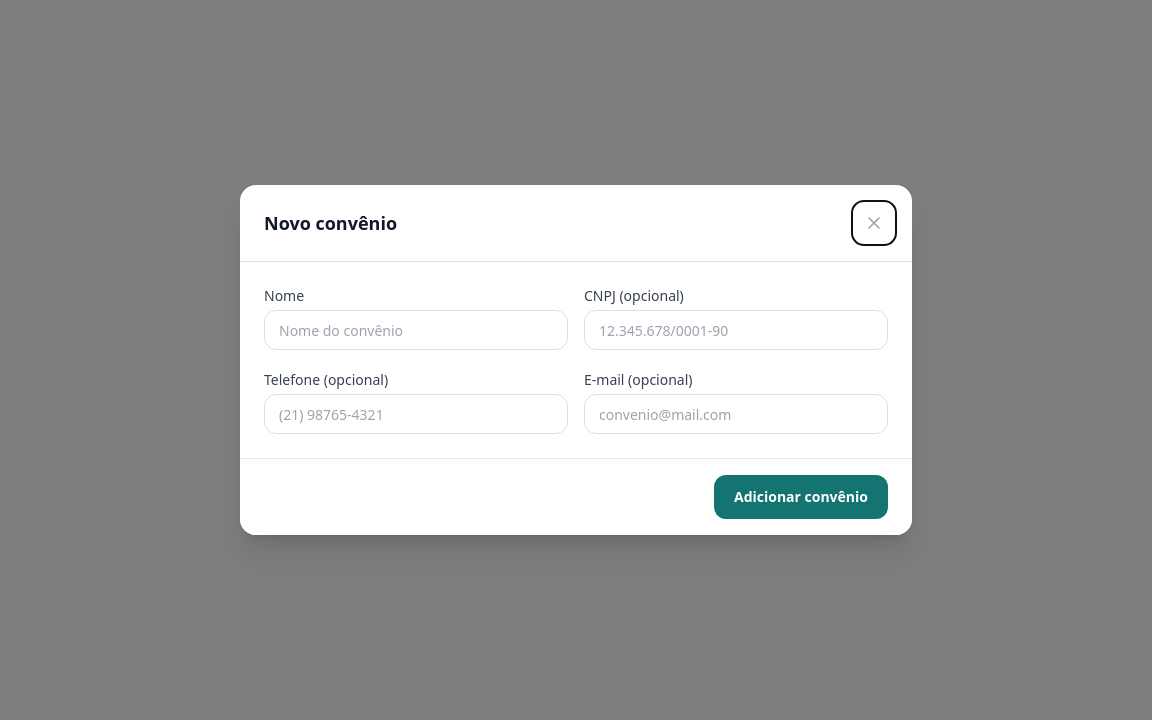
Scenario: modal de cadastro — convênio › não envia sem nome e mostra o erro do schema
Click the button "Adicionar convênio": (801,497) [714,475,888,519]
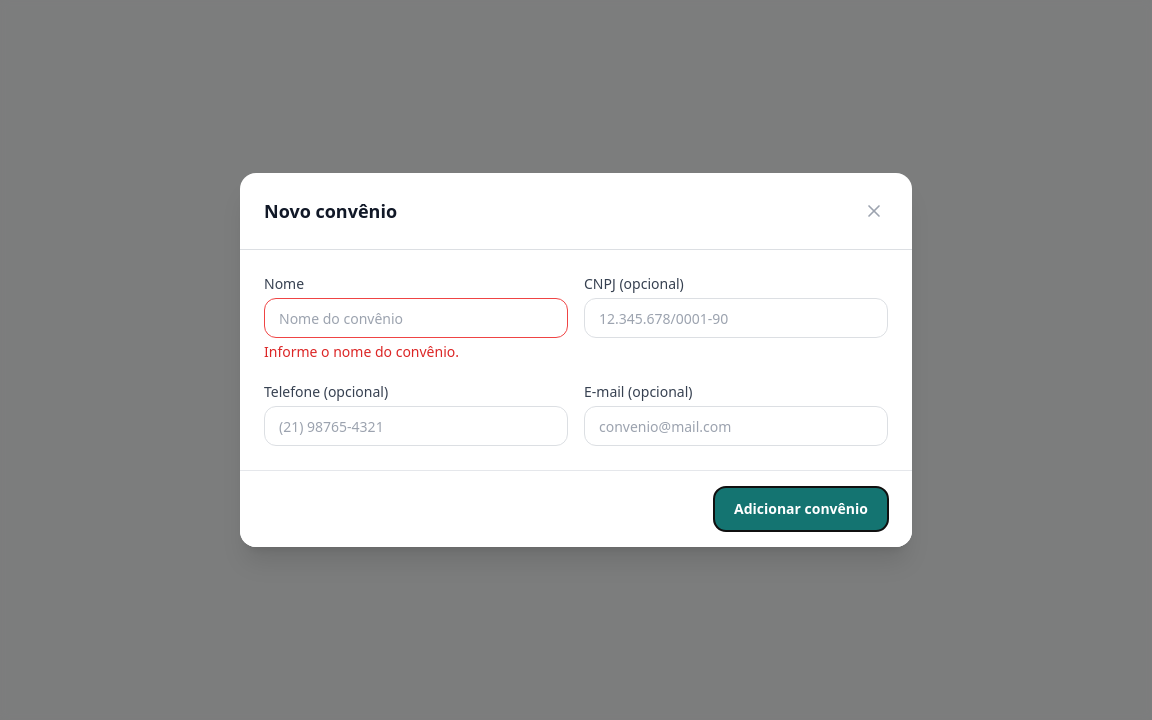
Expected: the message shows "Informe o nome", [264,342,459,361]
